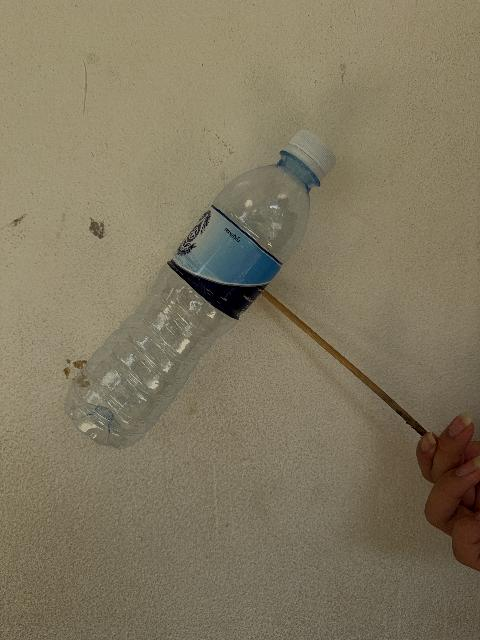bottle: (65, 131, 334, 448)
